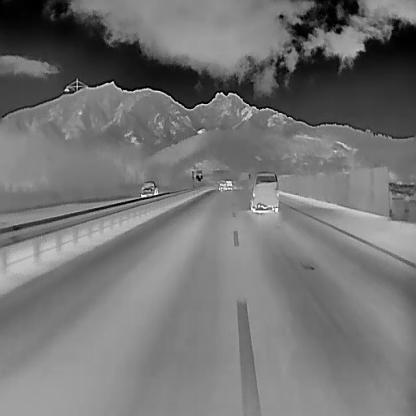car: (249, 171, 279, 213), (139, 180, 157, 198), (218, 179, 226, 191), (225, 178, 232, 189)
